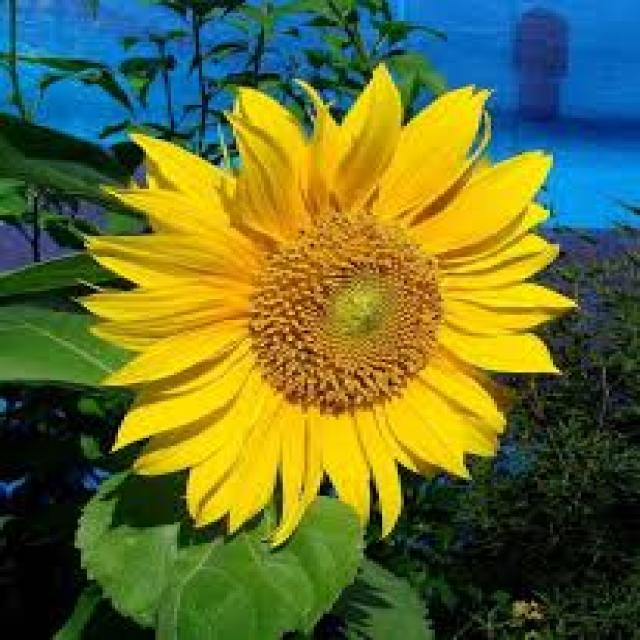sunflower: (68, 54, 618, 551)
